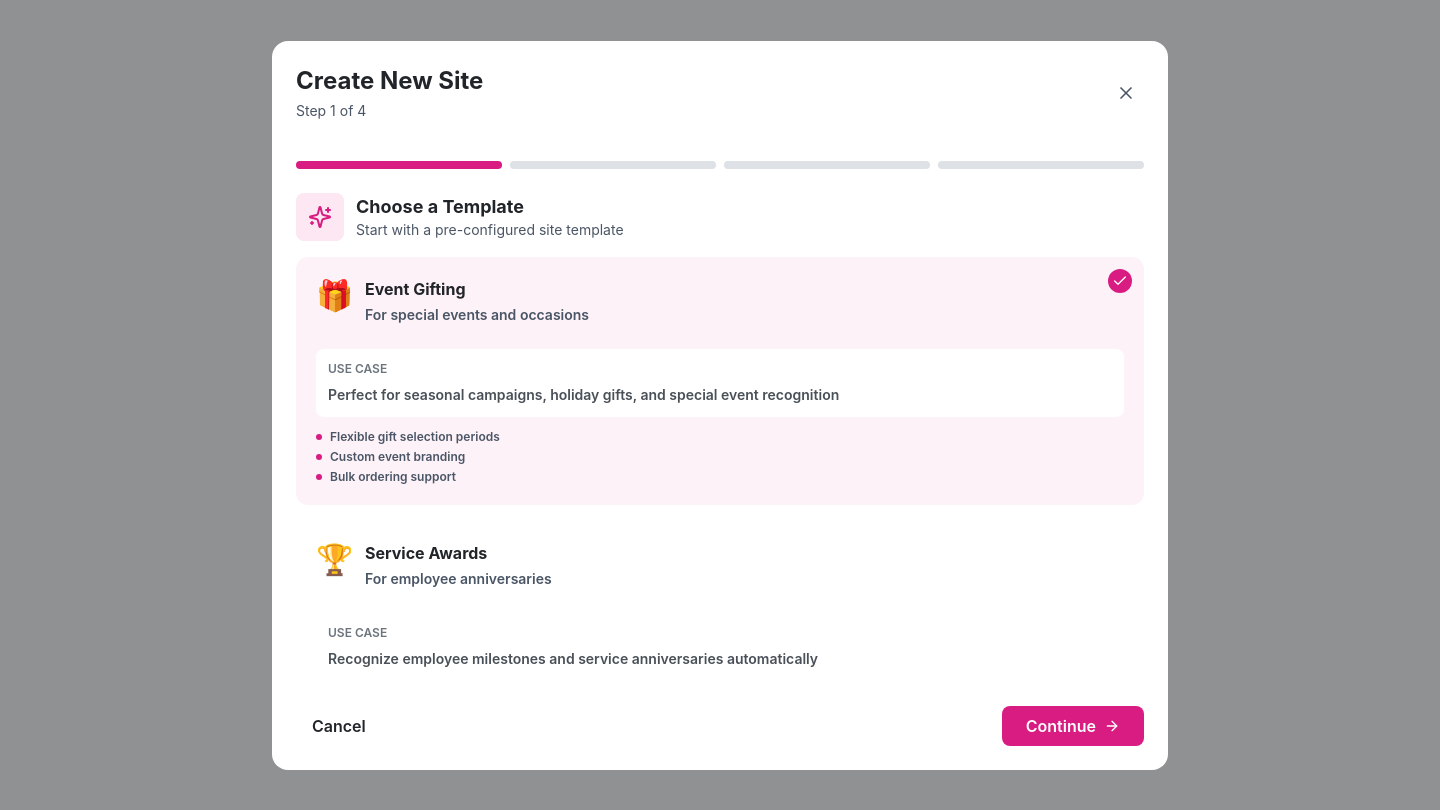
Scenario: CreateSiteModal Component › Rendering › should render validation method options
The image size is (1440, 810).
# Navigate to step 3 (Settings) where validation method is
Click the button "Continue" at (1073, 726), box [1002, 706, 1144, 746]
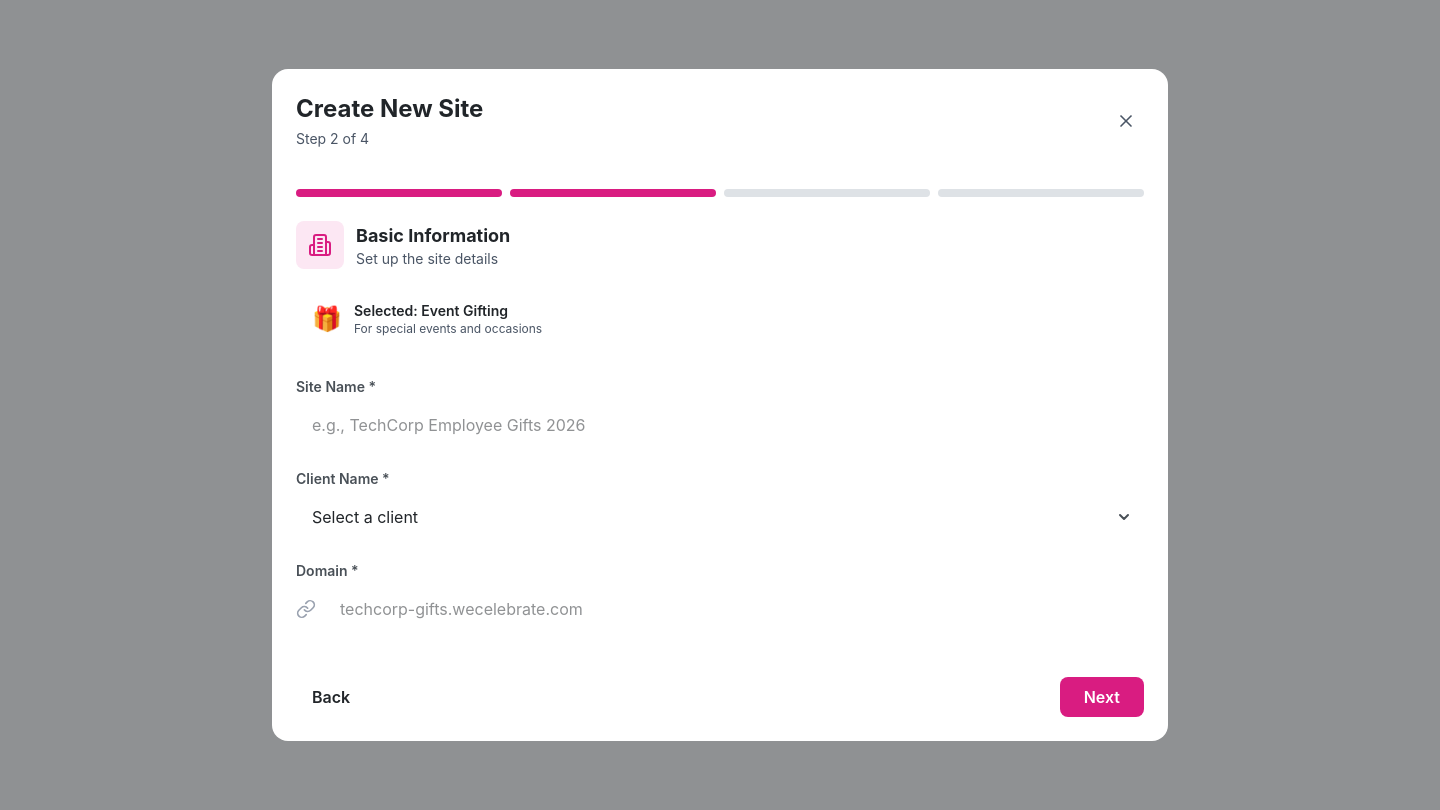
Click the button "Next" at (1102, 697), box [1060, 677, 1144, 717]
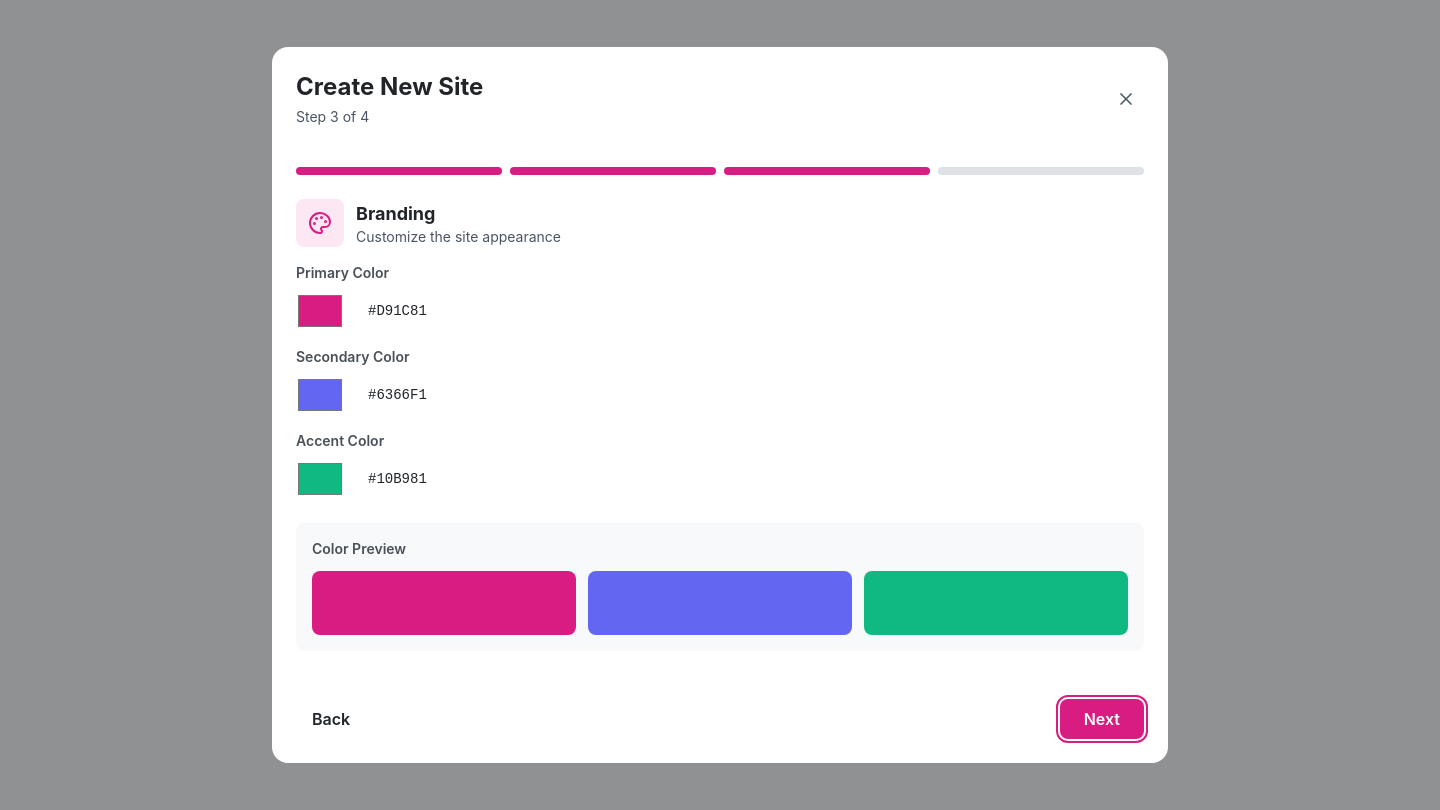
Click the button "Next" at (1102, 719), box [1060, 699, 1144, 739]
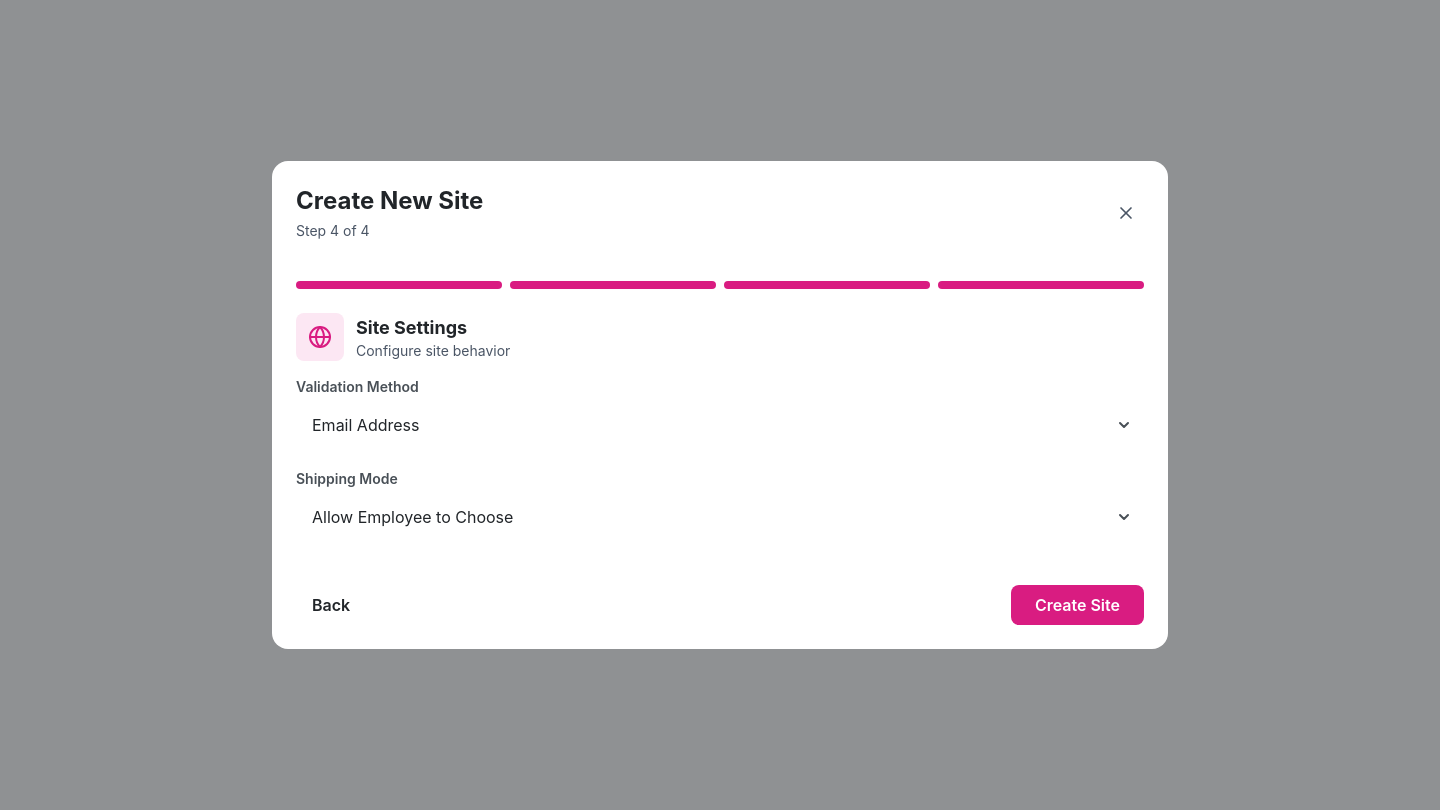
Expected: the dropdown below "Validation Method" is shown, [296, 405, 1144, 445]
